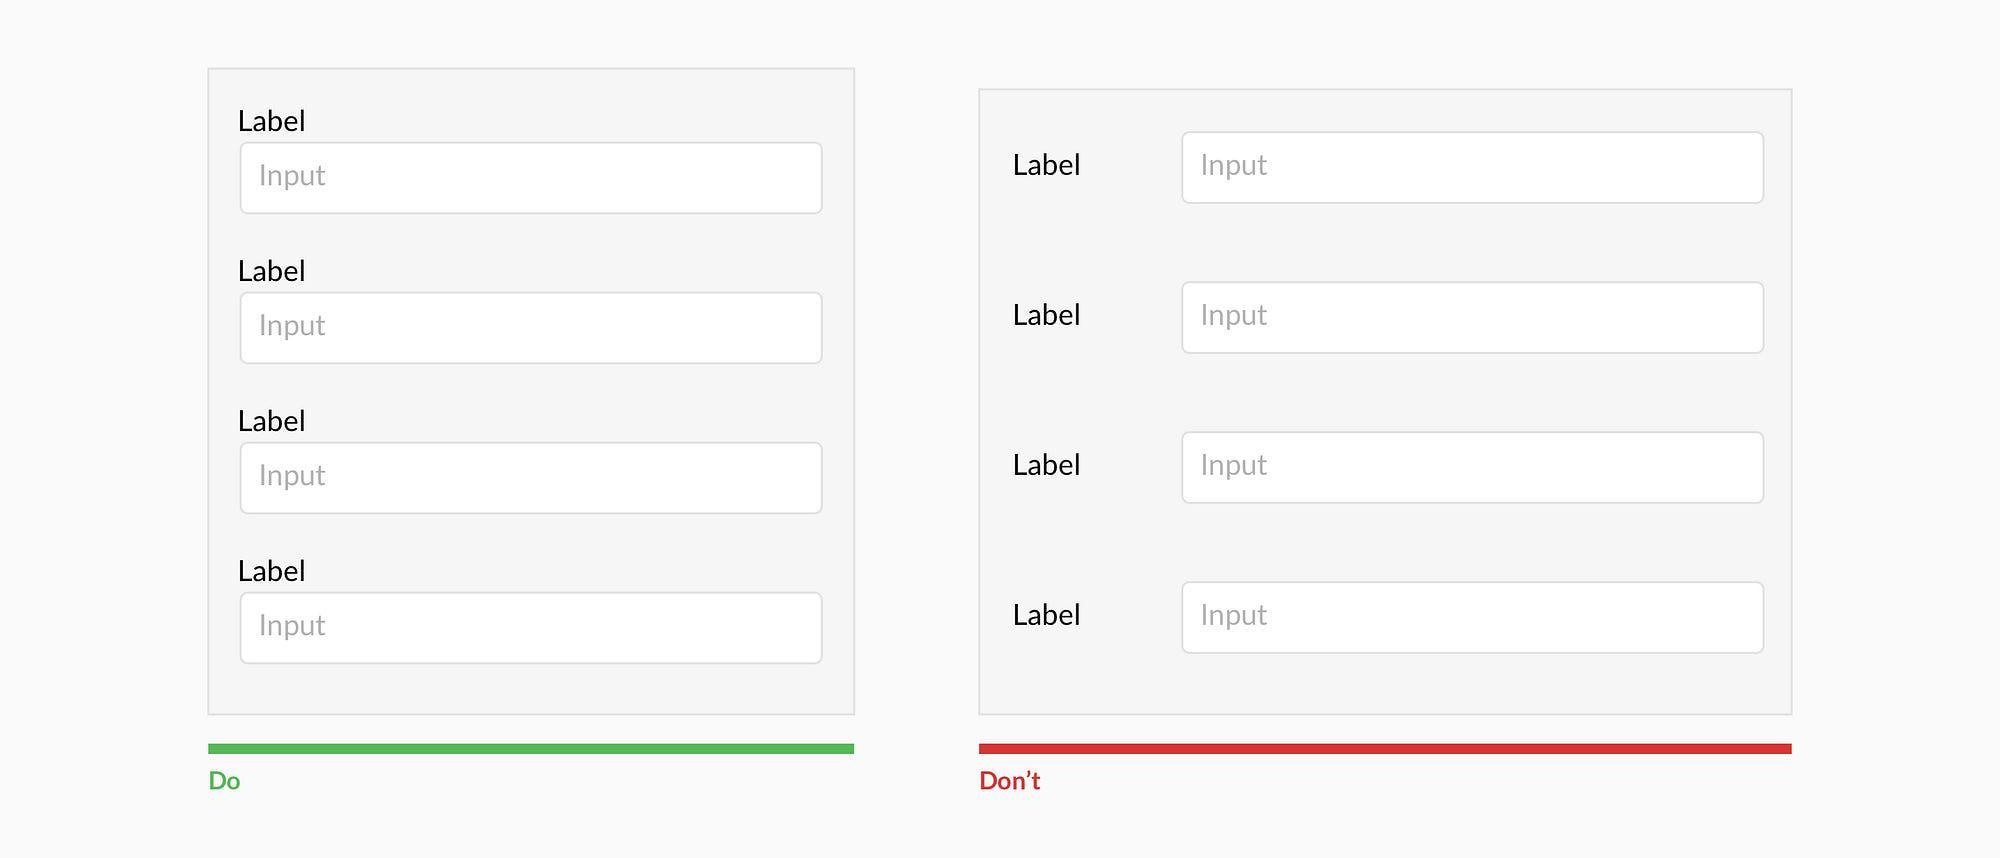input: (237, 289, 823, 367), (1182, 580, 1761, 658), (242, 442, 821, 518), (1182, 431, 1764, 502), (1185, 135, 1767, 204), (244, 143, 824, 212), (1182, 287, 1767, 354), (239, 600, 824, 665)
label: (1006, 294, 1087, 345), (1006, 597, 1085, 641), (1010, 450, 1087, 492), (237, 254, 311, 291), (1006, 150, 1088, 184), (240, 557, 310, 592), (232, 110, 312, 138), (239, 408, 311, 435)
